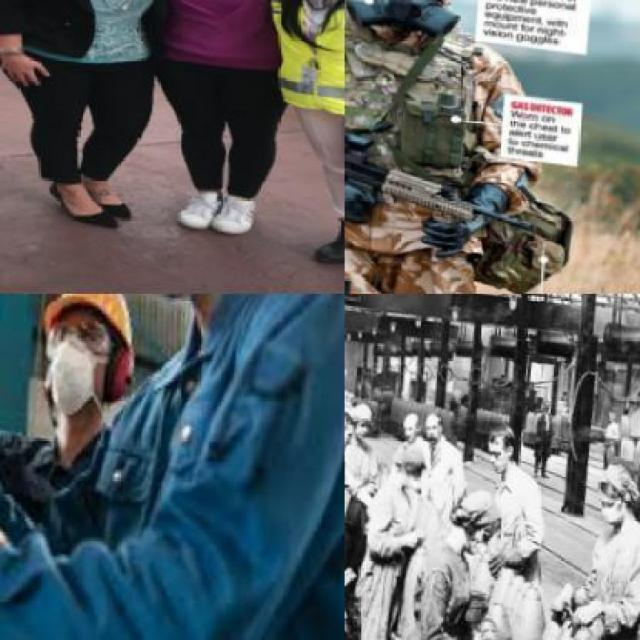vest: (344, 5, 494, 214), (243, 0, 343, 131)
